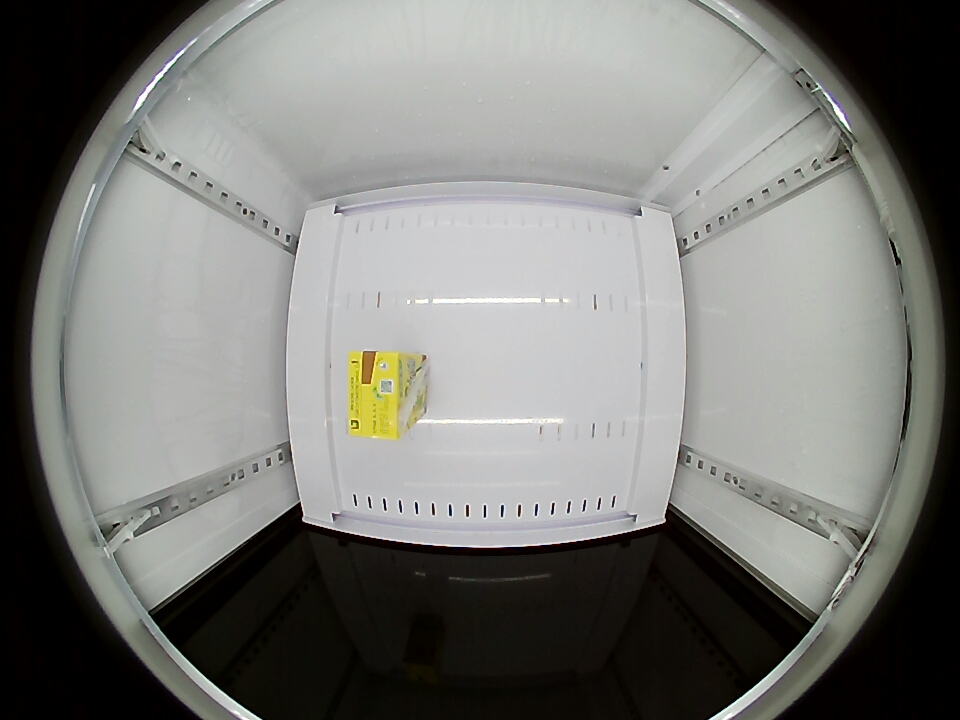weitaningmeng: (348, 351, 416, 439)
